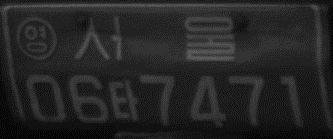0: (25, 74, 66, 124)
1: (271, 74, 308, 130)
4: (189, 76, 225, 127)
6: (69, 75, 108, 125)
7: (227, 74, 262, 127), (141, 73, 174, 126)
서울_D: (69, 14, 237, 64)
영: (15, 15, 58, 61)
타: (110, 80, 138, 123)
